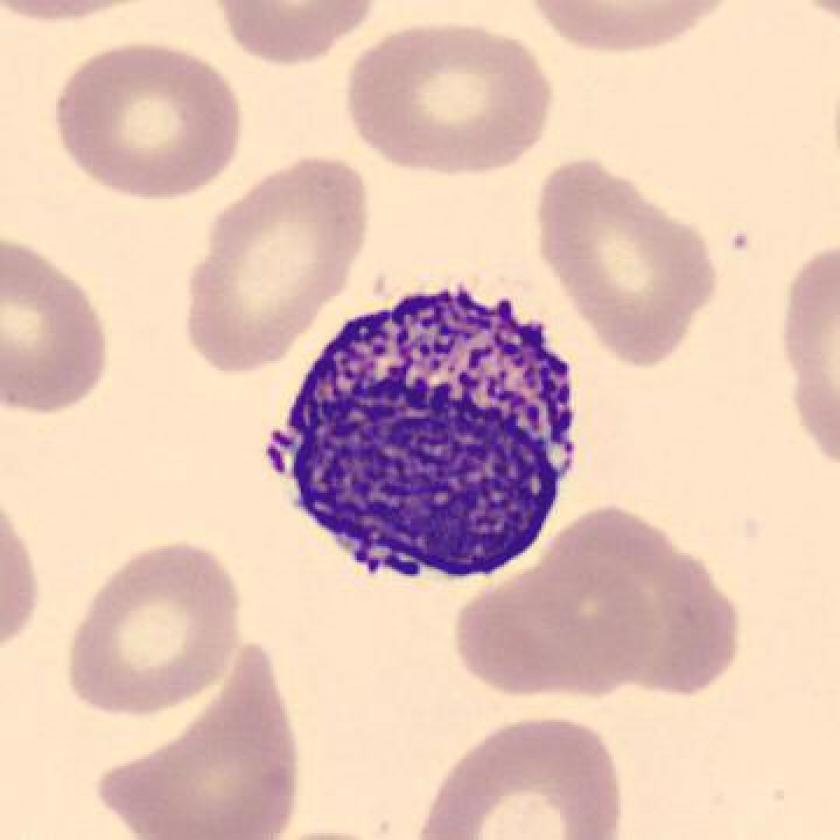basophil: (260, 279, 591, 591)
